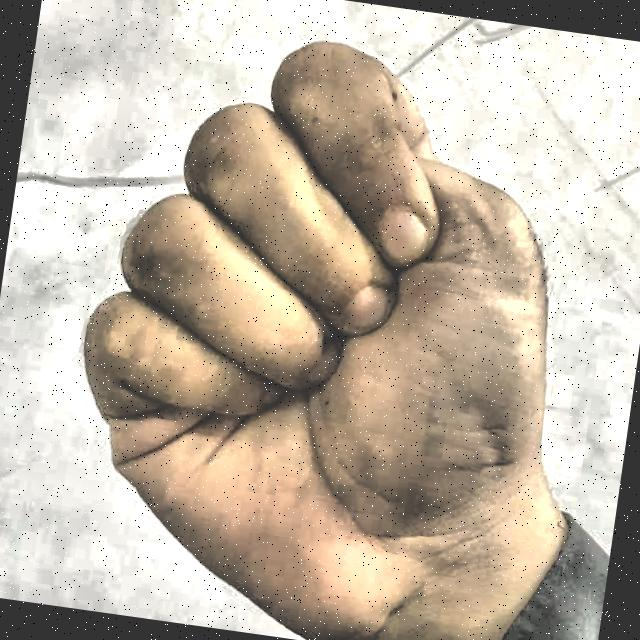To: (13, 0, 612, 640)
